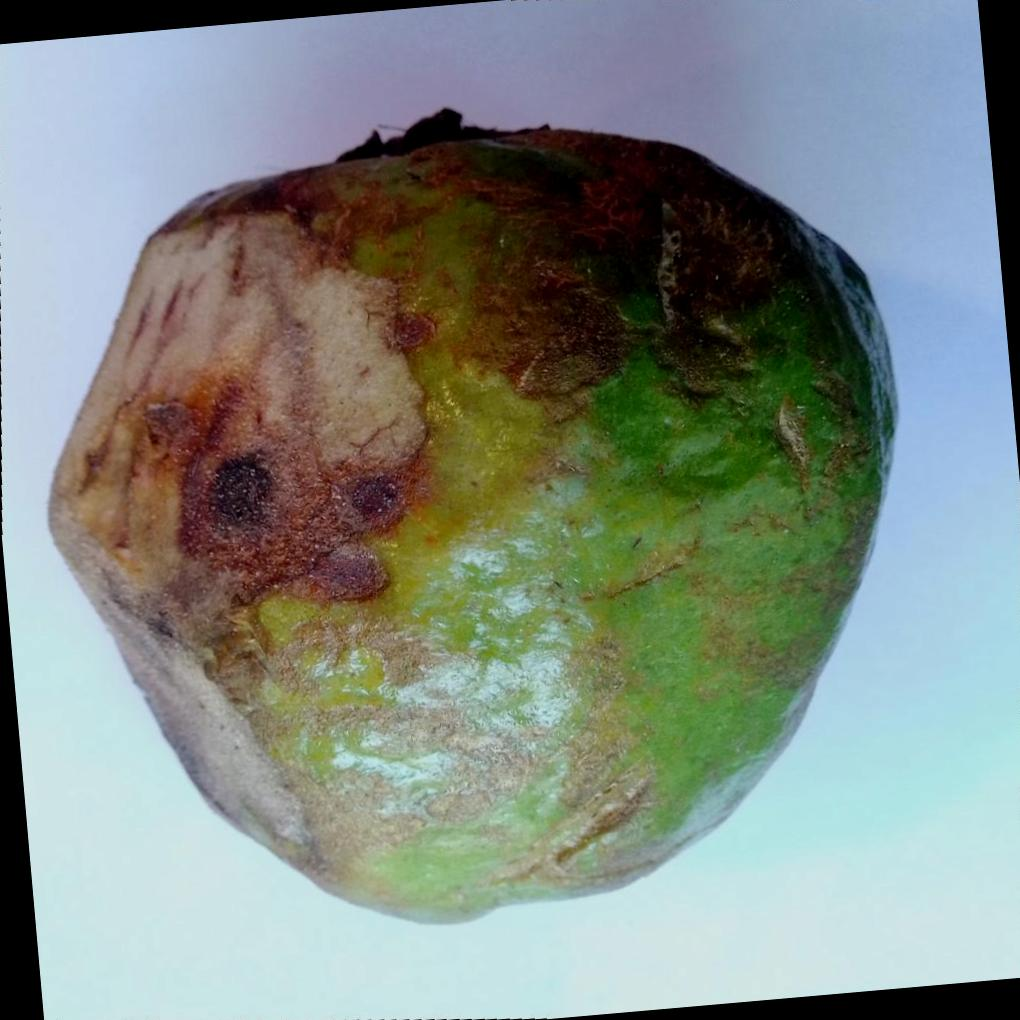FreshOrange: (44, 104, 900, 921)
